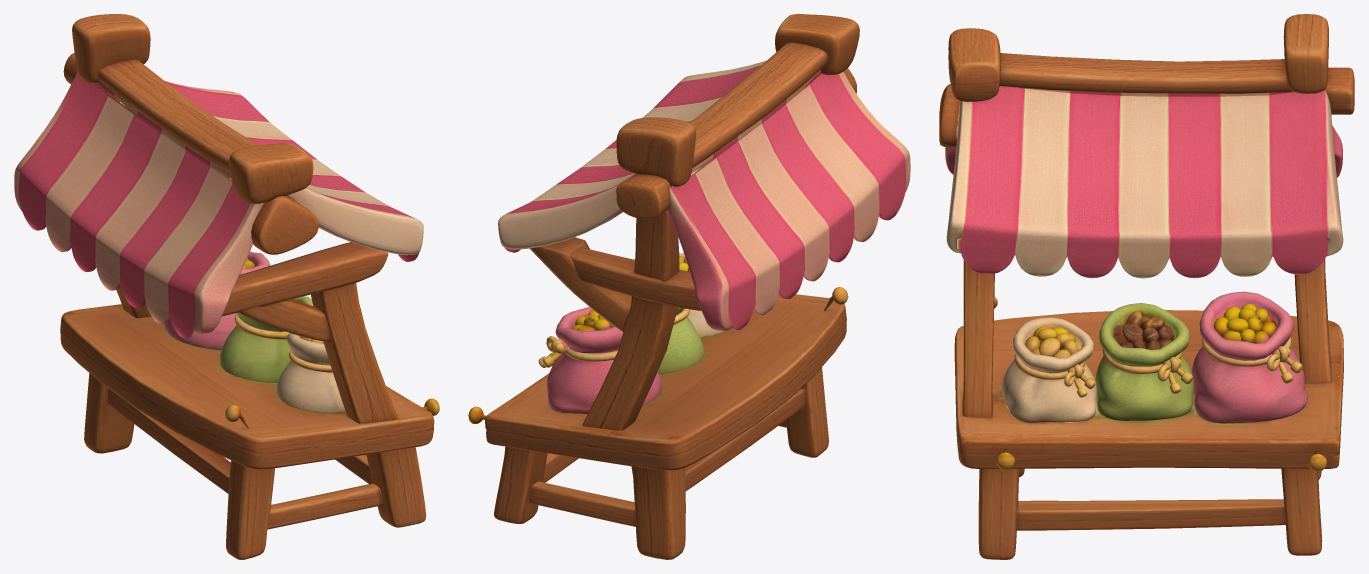
File: C12_seedstand.fbx
3 renders of one model, left to right at view 1: azimuth 30°, elevation 25°; view 2: azimuth 150°, elevation 25°; view 3: azimuth 270°, elevation 25°, orthographic. The views are drawn at different scales.
Parts seen in each view (by area): view 1: tripo_node_13d84a5b; view 2: tripo_node_13d84a5b; view 3: tripo_node_13d84a5b.
Boxes of the visible parts, x1,y1,x2,y2 form: tripo_node_13d84a5b: (14, 14, 439, 559); tripo_node_13d84a5b: (468, 14, 910, 559); tripo_node_13d84a5b: (939, 14, 1354, 559).
Size of the model in its own units: 0.645 by 0.9995 by 0.8345.
